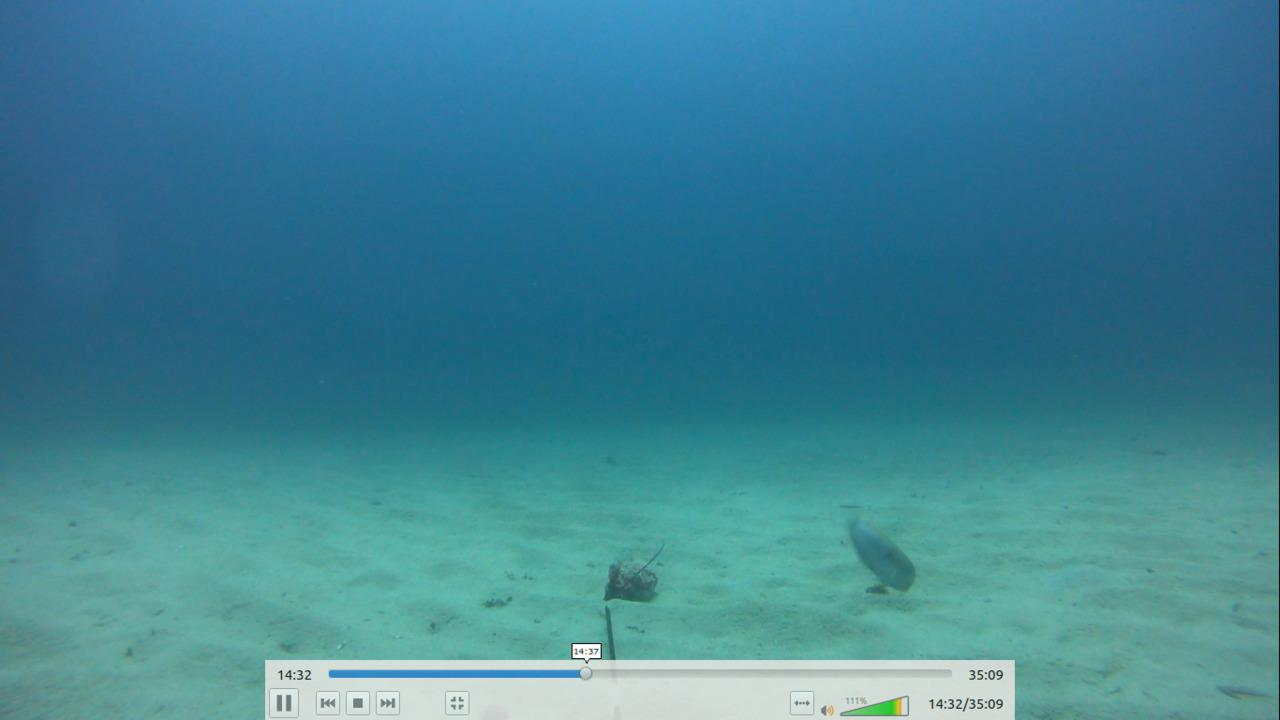raor: (837, 508, 920, 599)
